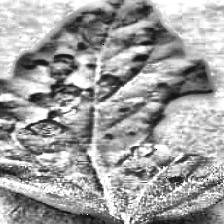disease: (0, 0, 224, 222)
